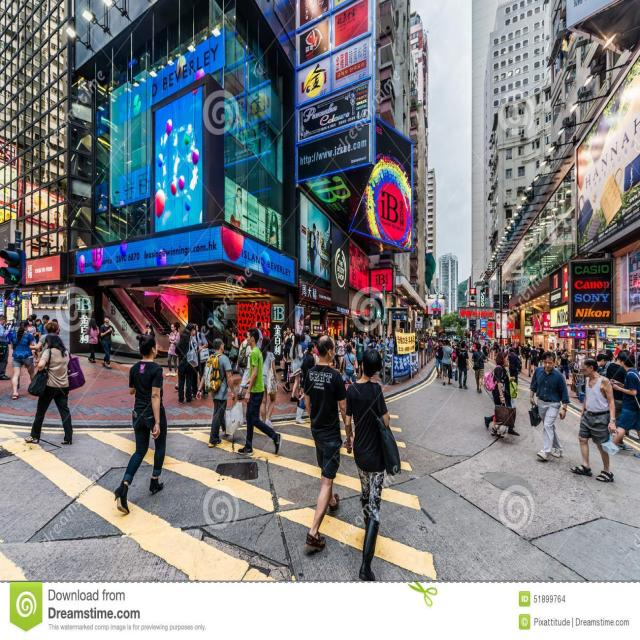body: (341, 344, 402, 586), (302, 333, 356, 552), (112, 330, 168, 514), (414, 306, 572, 369), (569, 355, 618, 484), (236, 326, 283, 456), (22, 330, 74, 444), (528, 348, 571, 462), (195, 336, 237, 449), (608, 348, 640, 458), (484, 350, 520, 438), (608, 348, 634, 451), (294, 339, 318, 425), (184, 322, 210, 400), (10, 319, 35, 399), (174, 326, 198, 405), (260, 336, 279, 430), (305, 220, 329, 281), (28, 319, 66, 357), (289, 332, 309, 403), (369, 329, 399, 375), (312, 329, 341, 370), (235, 334, 252, 399), (227, 182, 247, 234), (165, 322, 181, 378), (99, 314, 115, 369), (281, 333, 295, 394), (454, 339, 470, 390), (228, 328, 244, 378), (471, 342, 486, 394), (265, 209, 285, 247), (0, 312, 11, 380), (488, 397, 506, 438), (85, 316, 100, 364), (441, 338, 455, 386), (342, 342, 358, 383), (556, 348, 572, 386), (507, 347, 522, 386), (627, 332, 640, 376), (575, 349, 587, 394), (278, 329, 288, 377), (3, 317, 20, 345), (335, 332, 346, 374), (434, 338, 445, 379), (355, 336, 365, 379), (595, 352, 610, 378), (24, 317, 38, 343), (130, 91, 142, 120), (528, 343, 539, 374), (37, 314, 50, 340), (142, 322, 156, 346), (348, 340, 357, 377), (25, 312, 42, 331), (282, 325, 296, 347), (299, 333, 309, 362), (255, 321, 264, 350), (153, 293, 163, 318), (350, 331, 360, 350), (343, 334, 352, 355), (352, 329, 365, 343), (613, 341, 622, 361), (51, 316, 60, 336), (51, 208, 61, 226), (508, 278, 516, 300), (362, 331, 370, 352), (296, 312, 304, 333), (303, 328, 312, 346), (618, 342, 630, 355), (188, 320, 200, 331), (174, 321, 183, 335)
